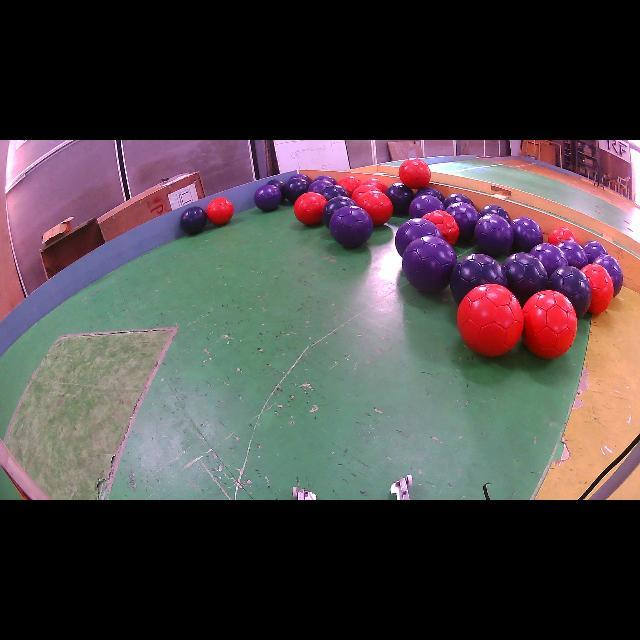B: (450, 254, 508, 304), (502, 252, 548, 305), (549, 265, 591, 317), (322, 196, 356, 228), (385, 182, 414, 215), (180, 206, 208, 235), (479, 205, 511, 224), (285, 178, 310, 202), (414, 186, 445, 202), (444, 192, 474, 208), (320, 185, 349, 201), (266, 179, 286, 199)
P: (402, 236, 458, 294), (330, 205, 372, 248), (395, 218, 442, 256), (474, 214, 514, 257), (530, 242, 568, 277), (446, 202, 480, 240), (594, 254, 624, 296), (511, 216, 542, 252), (558, 240, 589, 269), (409, 195, 445, 219), (254, 185, 281, 211), (582, 240, 608, 264), (308, 180, 332, 192), (289, 172, 311, 184), (312, 175, 336, 185)
R: (458, 284, 524, 356), (522, 290, 578, 359), (581, 264, 614, 314), (422, 210, 460, 245), (356, 191, 392, 226), (294, 192, 326, 225), (399, 159, 431, 189), (206, 198, 234, 225), (548, 228, 578, 245), (351, 185, 380, 201), (338, 176, 361, 196), (361, 178, 386, 192)
